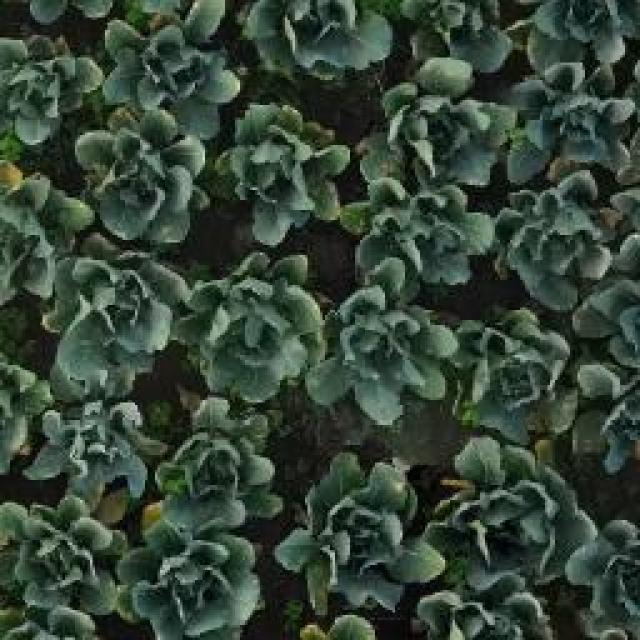cabbage: (279, 454, 441, 610), (437, 438, 592, 588), (50, 240, 188, 390), (178, 254, 317, 402), (115, 501, 262, 640), (308, 285, 457, 422), (217, 96, 350, 246), (366, 62, 514, 188), (345, 175, 498, 296), (73, 110, 211, 242), (449, 306, 580, 442), (156, 394, 286, 526), (497, 171, 615, 311), (506, 58, 636, 184), (27, 393, 162, 510), (0, 495, 122, 622), (104, 12, 232, 132), (0, 26, 104, 146), (240, 0, 395, 80), (400, 0, 514, 79), (519, 0, 640, 74)
